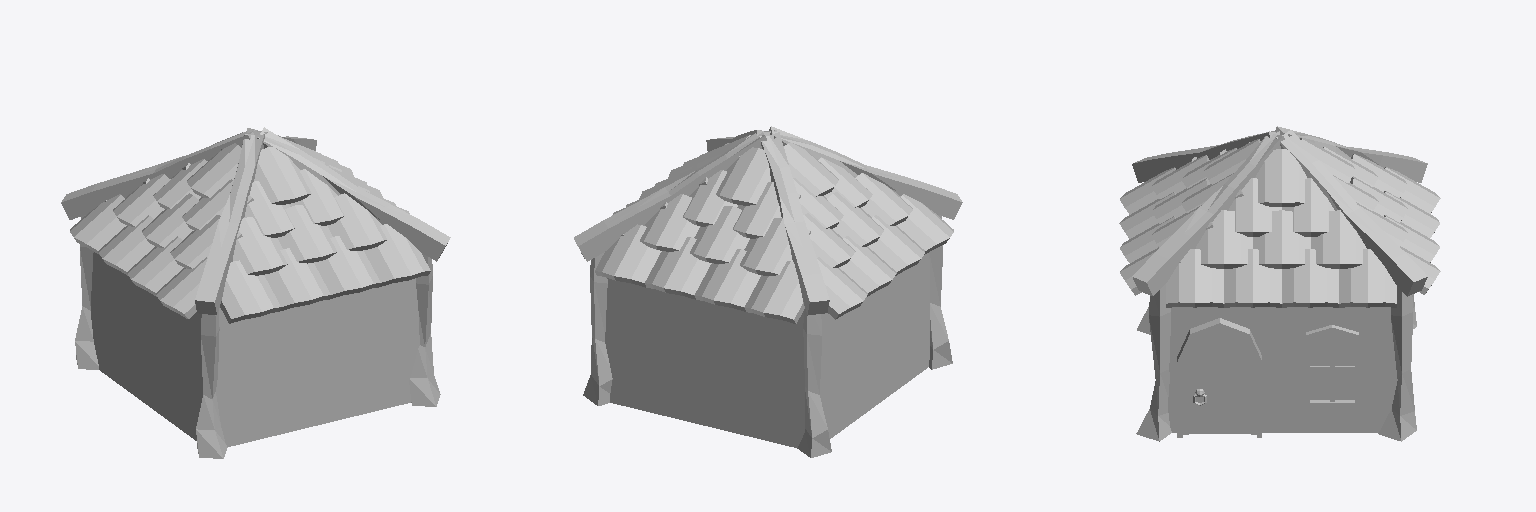
File: House2.obj
3 views of the same model, side by side, from view 1: azimuth 30°, elevation 25°; view 2: azimuth 150°, elevation 25°; view 3: azimuth 270°, elevation 25° (orthographic).
Visible parts, largest first — view 1: Cylinder.010; view 2: Cylinder.010; view 3: Cylinder.010.
Part boxes in pixels (x1,y1,x2,y2): Cylinder.010: (61,127,450,458); Cylinder.010: (574,126,962,457); Cylinder.010: (1119,126,1440,441).
Bounding box in the file's own units: 3.79 × 3.26 × 3.79.